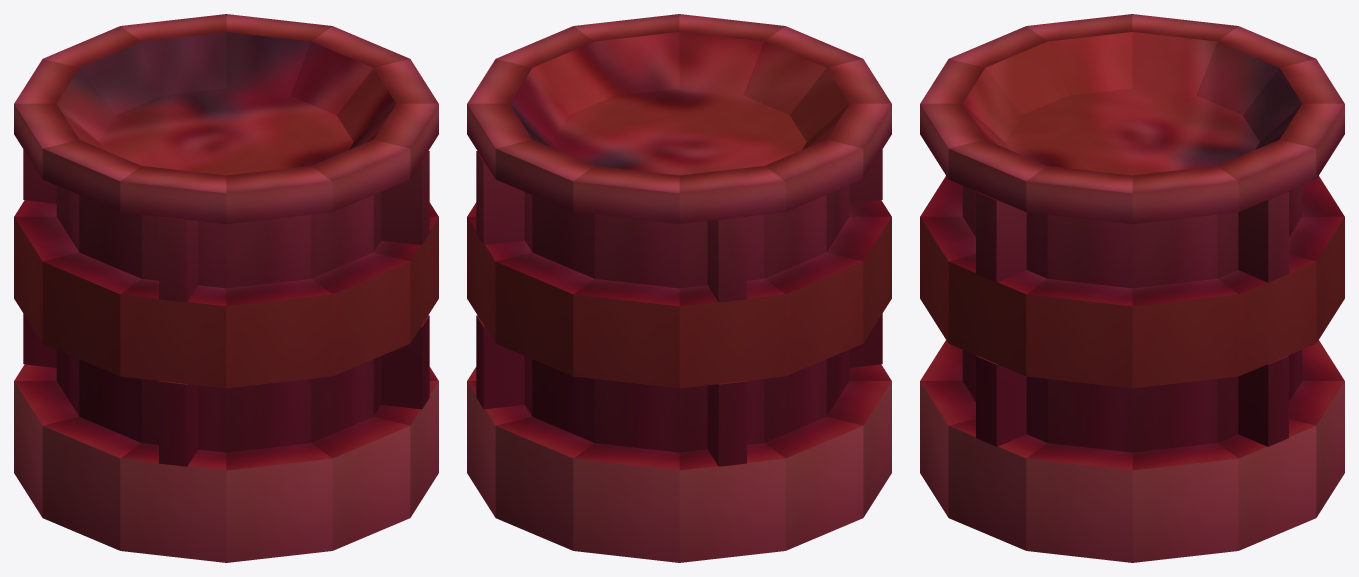
3 views of the same model, side by side, from view 1: azimuth 30°, elevation 25°; view 2: azimuth 150°, elevation 25°; view 3: azimuth 270°, elevation 25° (orthographic).
Bounding box in the file's own units: 0.3125 × 0.3 × 0.3125.
Materials: 1 (1 with a texture image).
